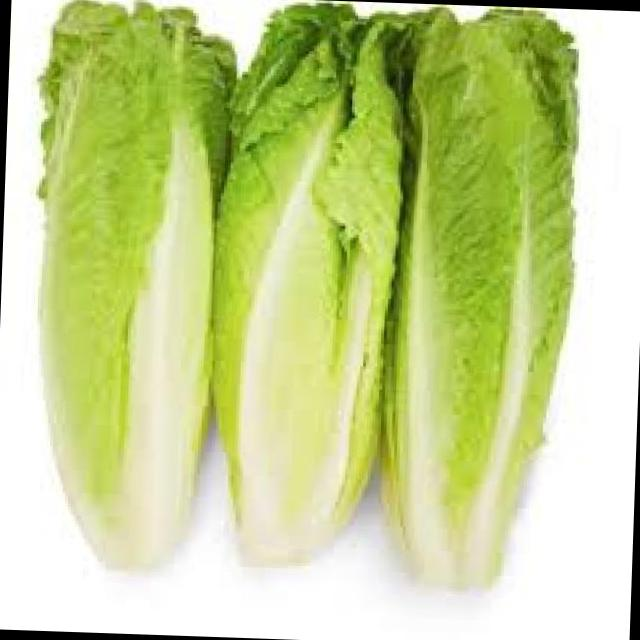Lettuce-Ready-to-Harvest: (40, 0, 235, 565), (383, 10, 574, 585), (216, 6, 401, 560)
